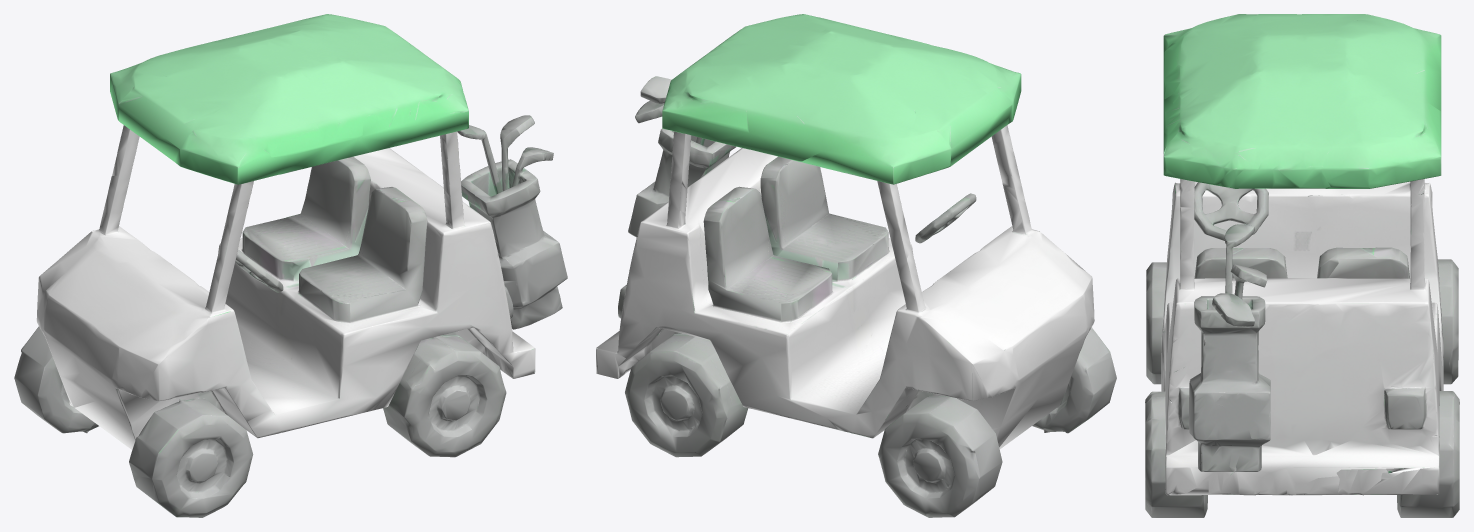
The picture shows the model from 3 angles, left to right: view 1: azimuth 30°, elevation 25°; view 2: azimuth 150°, elevation 25°; view 3: azimuth 270°, elevation 25°; orthographic projection. The views are drawn at different scales.
Visible parts, largest first — view 1: Mesh_0; view 2: Mesh_0; view 3: Mesh_0.
Boxes of the visible parts, <box> form: Mesh_0: <box>14,14,567,517</box>; Mesh_0: <box>596,14,1116,517</box>; Mesh_0: <box>1145,14,1459,517</box>.
Bounding box in the file's own units: 1.9 × 1.54 × 1.08.
1 material, 1 textured.
